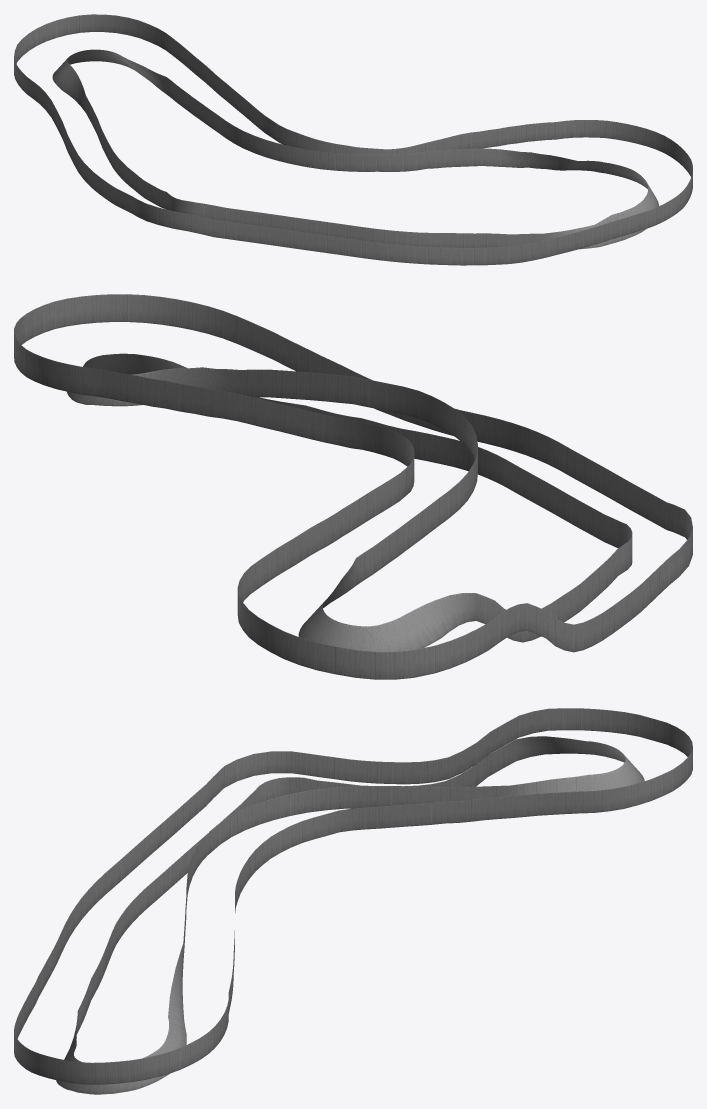
File: sides.obj
3 renders of one model, top to bottom at view 1: azimuth 30°, elevation 25°; view 2: azimuth 150°, elevation 25°; view 3: azimuth 270°, elevation 25°, orthographic. The views are drawn at different scales.
Visible parts, largest first — view 1: walls; view 2: walls; view 3: walls.
Part boxes in pixels (x1,y1,x2,y2): walls: (14, 14, 692, 265); walls: (14, 294, 692, 679); walls: (14, 708, 692, 1094).
Size of the model in its own units: 142 by 32.71 by 140.
1 material, 1 textured.
